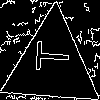T: (27, 39, 70, 73)
